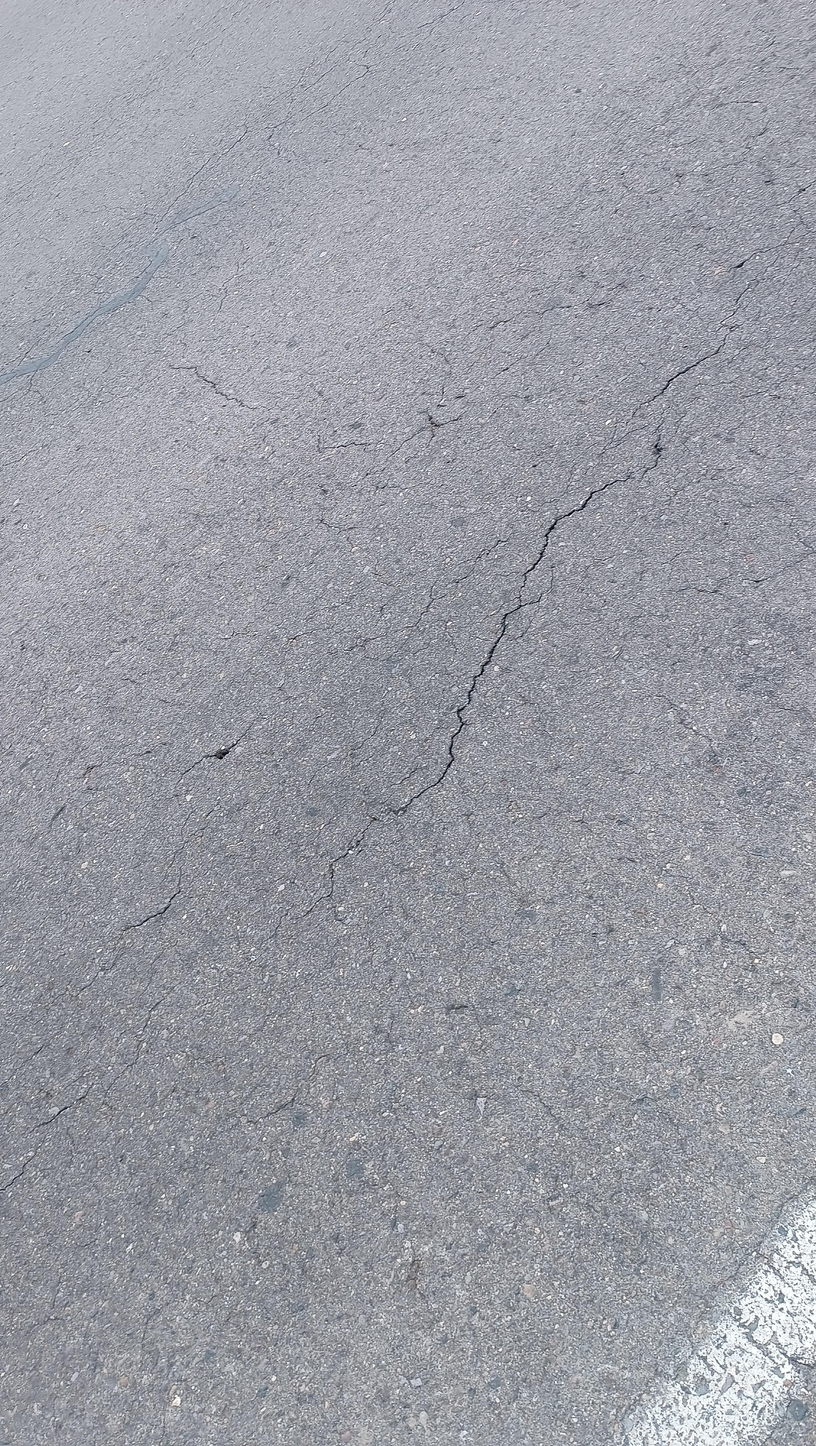GRIETA: (398, 594, 542, 813), (517, 477, 632, 601), (650, 337, 726, 402), (169, 366, 269, 411), (179, 724, 254, 781), (291, 869, 334, 920), (343, 813, 379, 857), (645, 433, 662, 474)
PIEL DE COCODRILO: (6, 8, 482, 422), (301, 292, 712, 481), (303, 509, 531, 719), (723, 168, 815, 447)
